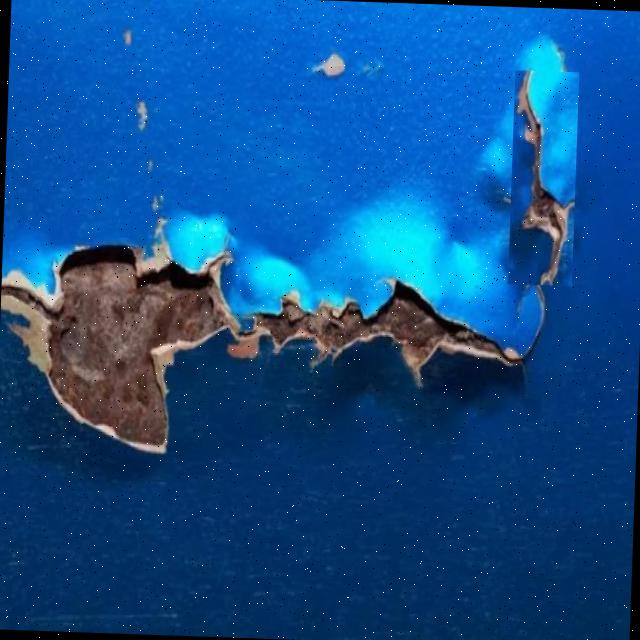Corrosion: (0, 215, 540, 466), (0, 226, 244, 456), (226, 270, 528, 391), (505, 67, 579, 286)
